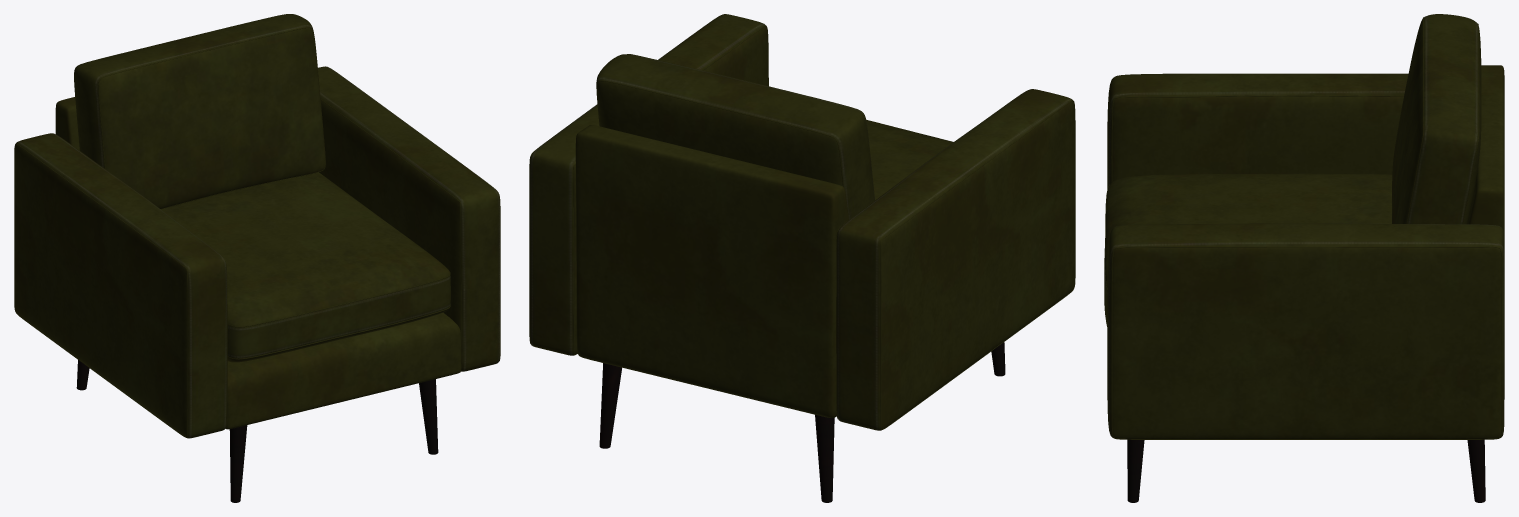
The model's file is Vine.glb.
3 renders of one model, left to right at view 1: azimuth 30°, elevation 25°; view 2: azimuth 150°, elevation 25°; view 3: azimuth 270°, elevation 25°, orthographic. The views are drawn at different scales.
Parts seen in each view (by area): view 1: Armchair; view 2: Armchair; view 3: Armchair.
Part boxes in pixels (x1,y1,x2,y2): Armchair: (14, 14, 500, 502); Armchair: (529, 14, 1075, 502); Armchair: (1104, 14, 1504, 502).
Size of the model in its own units: 0.8098 by 0.8114 by 0.7843.
1 material, 1 textured.
